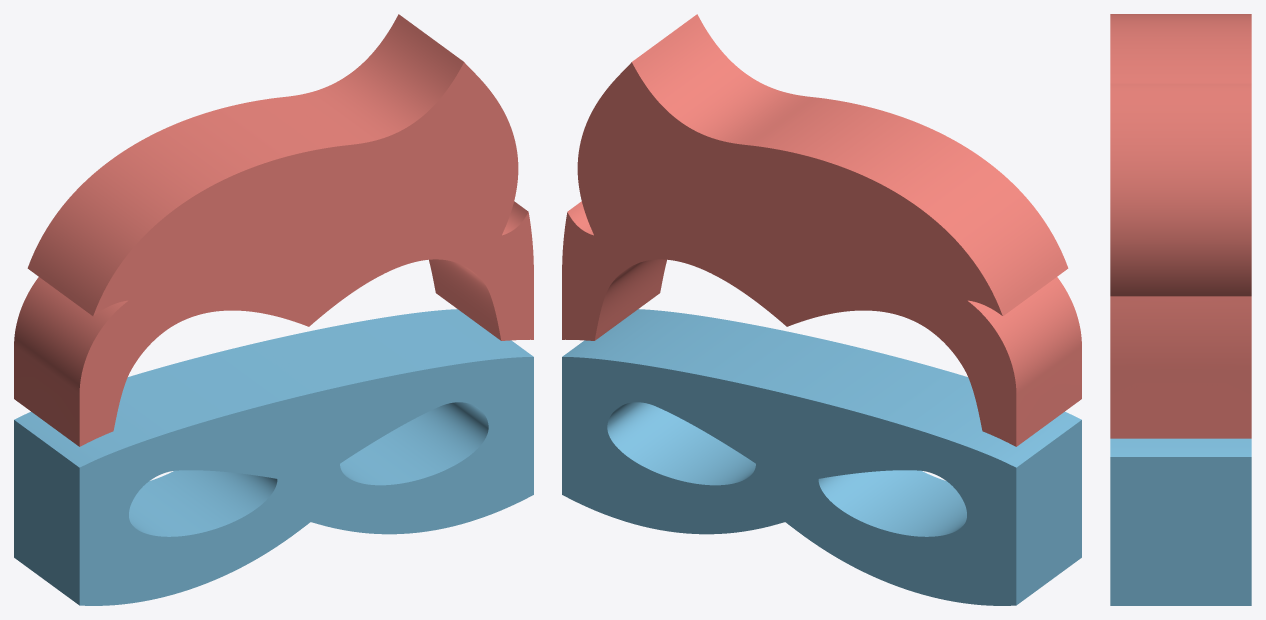
The model's file is sidekick-3d-color.glb.
The picture shows the model from 3 angles, left to right: view 1: azimuth 30°, elevation 25°; view 2: azimuth 150°, elevation 25°; view 3: azimuth 270°, elevation 25°; orthographic projection. The views are drawn at different scales.
Parts seen in each view (by area): view 1: nodes[1], nodes[0]; view 2: nodes[1], nodes[0]; view 3: nodes[1], nodes[0].
Boxes of the visible parts, x1,y1,x2,y2 form: nodes[1]: (14,14,533,446); nodes[0]: (14,309,533,605); nodes[1]: (562,14,1081,446); nodes[0]: (562,309,1081,605); nodes[1]: (1110,14,1251,438); nodes[0]: (1110,438,1251,605).
Bounding box in the file's own units: 0.32 × 0.3108 × 0.08.
